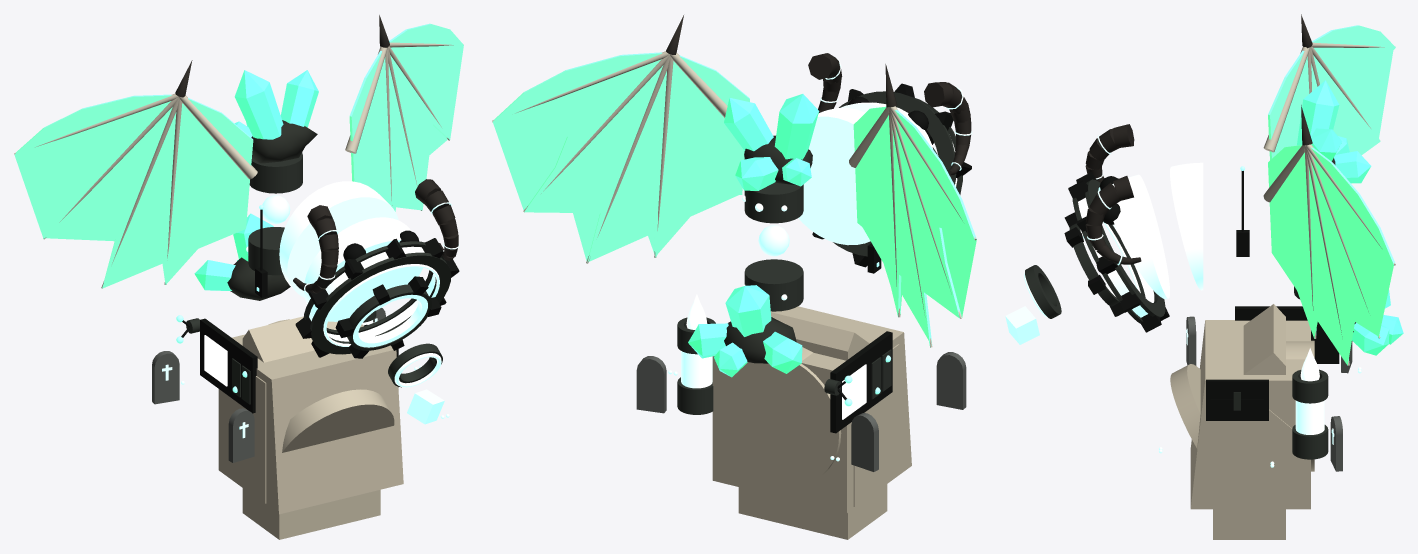
File: BoneNecroMine_Roblox.fbx
3 views of the same model, side by side, from view 1: azimuth 30°, elevation 25°; view 2: azimuth 150°, elevation 25°; view 3: azimuth 270°, elevation 25° (orthographic). The views are drawn at different scales.
Parts seen in each view (by area): view 1: GhostMembrane, Bone, Neon, GraveIron, Black, Crystal, WingBone, DarkHorn, Rock, Gravestone, SoulFire, Ore (+1 smaller); view 2: GhostMembrane, Bone, Crystal, GraveIron, Neon, WingBone, Gravestone, Black, DarkHorn, Rock, SoulFire, Screen; view 3: GhostMembrane, Bone, Neon, Black, GraveIron, Crystal, WingBone, DarkHorn, Gravestone, Ore.
Part boxes in pixels (left/top/right/bottom): GhostMembrane: left=14, top=23, right=463, bottom=288; Bone: left=218, top=316, right=403, bottom=539; Neon: left=246, top=181, right=441, bottom=387; GraveIron: left=186, top=152, right=451, bottom=404; Black: left=181, top=209, right=459, bottom=413; Crystal: left=194, top=70, right=318, bottom=290; WingBone: left=14, top=42, right=463, bottom=288; DarkHorn: left=175, top=15, right=458, bottom=293; Rock: left=227, top=120, right=317, bottom=300; Gravestone: left=152, top=308, right=385, bottom=462; SoulFire: left=162, top=195, right=459, bottom=438; Ore: left=407, top=389, right=444, bottom=424; GhostMembrane: left=492, top=52, right=976, bottom=347; Bone: left=712, top=306, right=911, bottom=539; Crystal: left=688, top=94, right=819, bottom=377; GraveIron: left=677, top=91, right=962, bottom=414; Neon: left=681, top=102, right=957, bottom=388; WingBone: left=492, top=51, right=976, bottom=347; Gravestone: left=636, top=352, right=966, bottom=471; Black: left=812, top=83, right=971, bottom=433; DarkHorn: left=666, top=15, right=971, bottom=175; Rock: left=724, top=135, right=812, bottom=363; SoulFire: left=668, top=56, right=972, bottom=461; Screen: left=842, top=364, right=866, bottom=419; GhostMembrane: left=1268, top=25, right=1395, bottom=365; Bone: left=1170, top=304, right=1314, bottom=539; Neon: left=1024, top=162, right=1324, bottom=434; Black: left=1064, top=171, right=1339, bottom=420; GraveIron: left=1025, top=179, right=1328, bottom=459; Crystal: left=1297, top=80, right=1403, bottom=355; WingBone: left=1263, top=42, right=1395, bottom=365; DarkHorn: left=1085, top=14, right=1312, bottom=264; Gravestone: left=1186, top=316, right=1352, bottom=471; Ore: left=1005, top=306, right=1039, bottom=344.
Size of the model in its own units: 2127 by 2073 by 1641.
